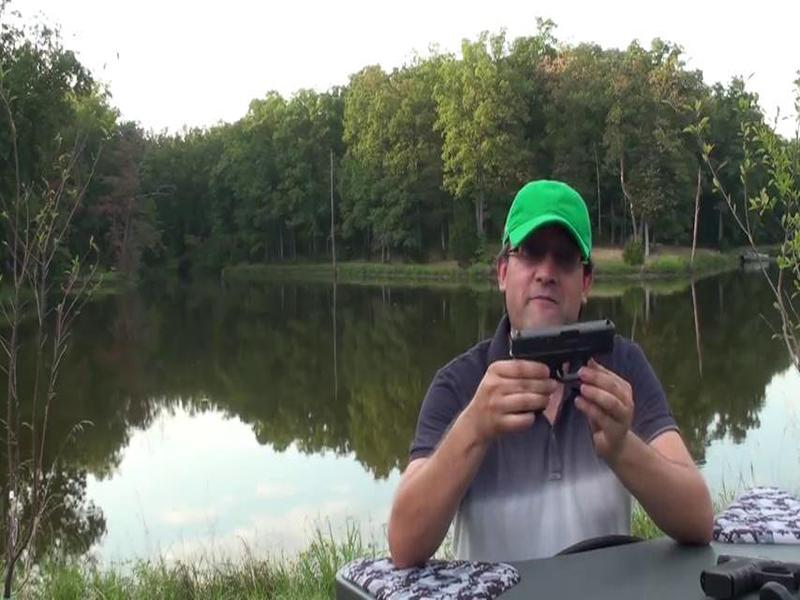Pistola: (484, 312, 648, 426)
